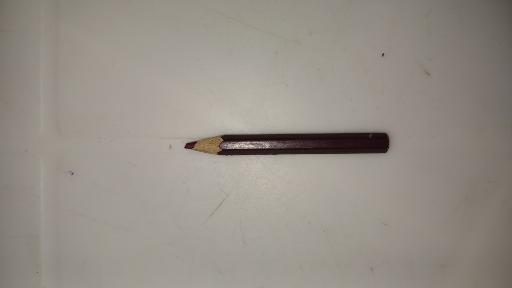Pencil: (183, 133, 389, 156)
